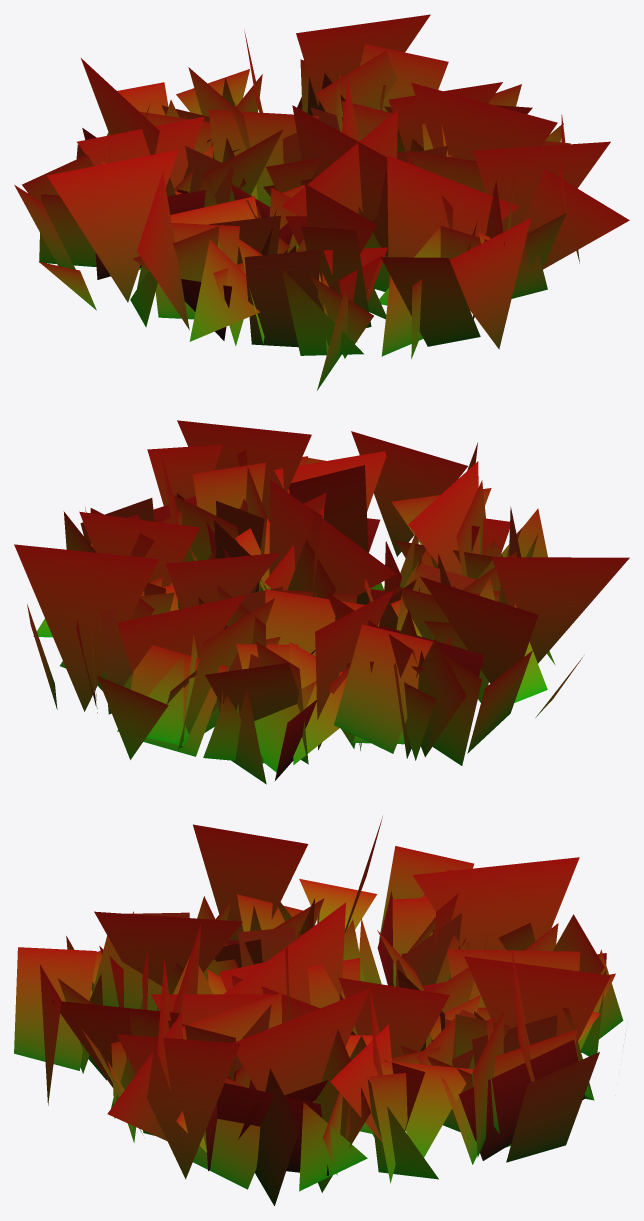
The model's file is GrassM_LOD3.fbx.
3 renders of one model, top to bottom at view 1: azimuth 30°, elevation 25°; view 2: azimuth 150°, elevation 25°; view 3: azimuth 270°, elevation 25°, orthographic. The views are drawn at different scales.
Visible parts, largest first — view 1: Grass_LOD2_5; view 2: Grass_LOD2_5; view 3: Grass_LOD2_5.
Boxes of the visible parts, x1=… form: Grass_LOD2_5: x1=14, y1=14, x2=629, y2=390; Grass_LOD2_5: x1=14, y1=420, x2=629, y2=784; Grass_LOD2_5: x1=14, y1=816, x2=625, y2=1205.
Bounding box in the file's own units: 84.77 × 28.51 × 85.46.
